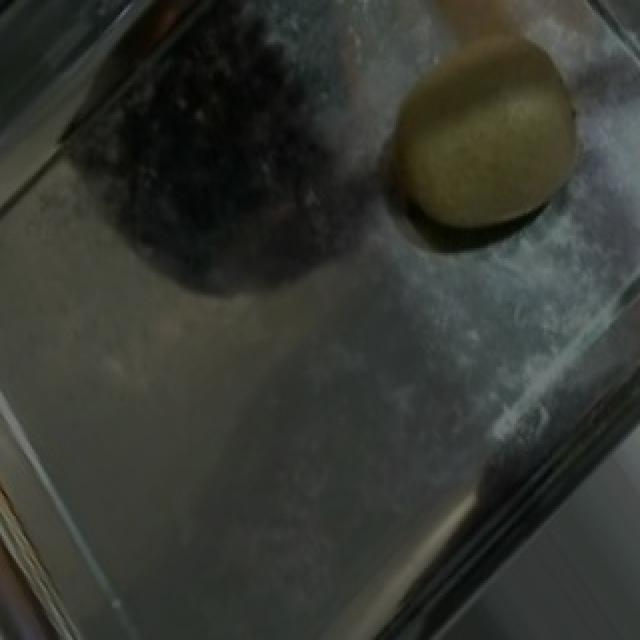Fruit: (364, 20, 602, 250)
